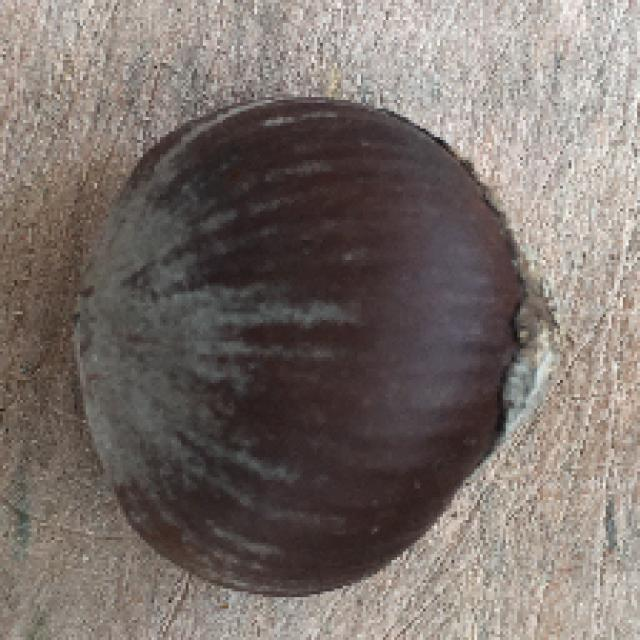damagedHazelnut: (60, 77, 562, 606)
